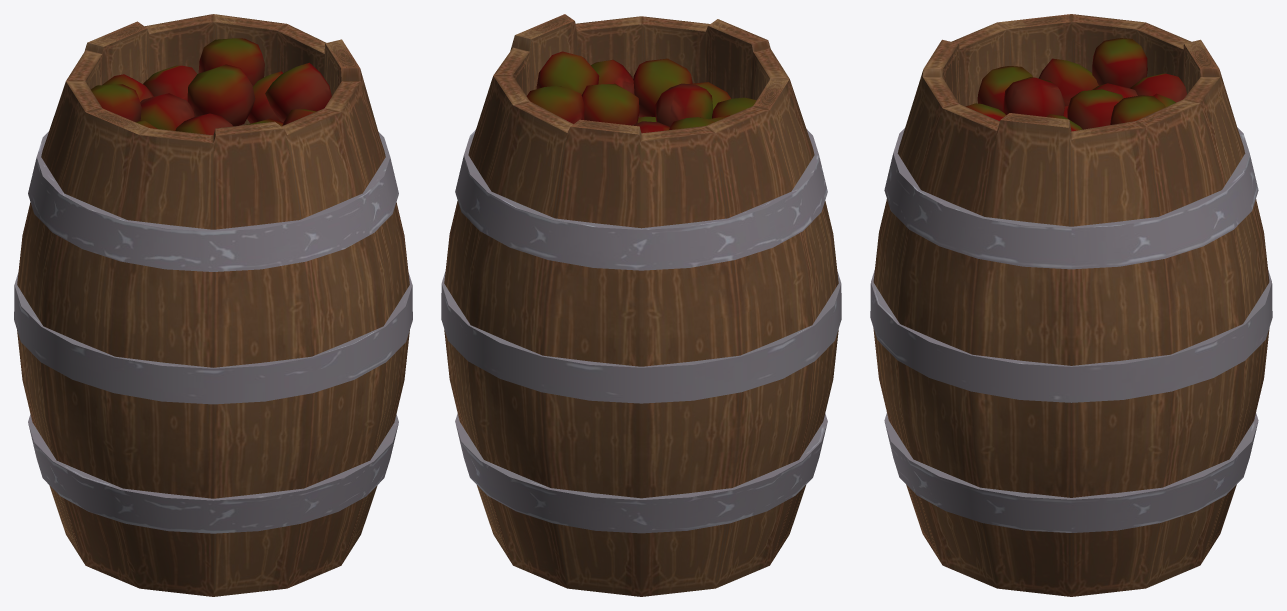
The model's file is Barrel_Apples.gltf.
3 renders of one model, left to right at view 1: azimuth 30°, elevation 25°; view 2: azimuth 150°, elevation 25°; view 3: azimuth 270°, elevation 25°, orthographic.
Visible parts, largest first — view 1: Barrel_Apples; view 2: Barrel_Apples; view 3: Barrel_Apples.
Boxes of the visible parts, x1,y1,x2,y2 form: Barrel_Apples: (14,14,412,596); Barrel_Apples: (441,14,841,596); Barrel_Apples: (870,14,1272,596).
Size of the model in its own units: 0.698 by 0.898 by 0.698.
Materials: 3 (3 with a texture image).
